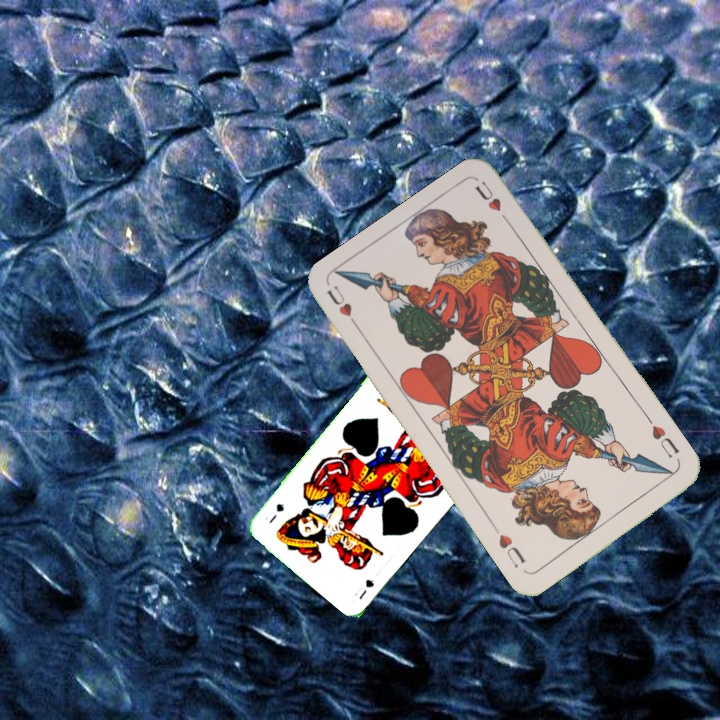GU: (355, 575, 377, 602)
HU: (323, 281, 364, 334), (647, 421, 682, 461)
